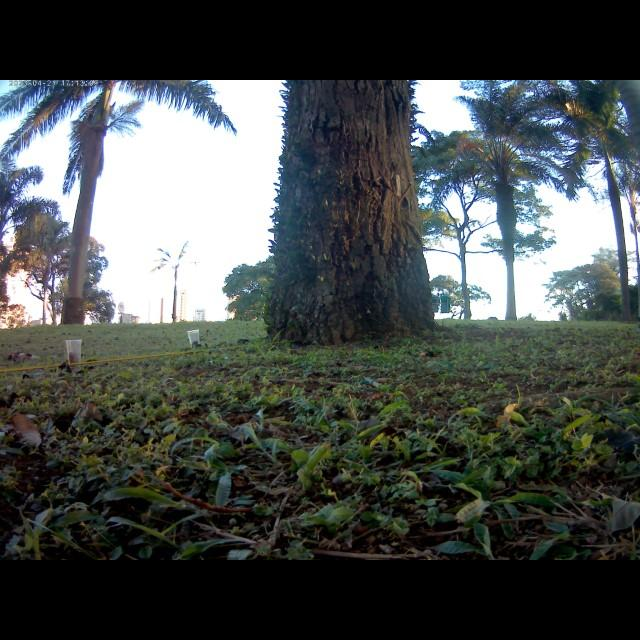arvore: (264, 82, 435, 343)
